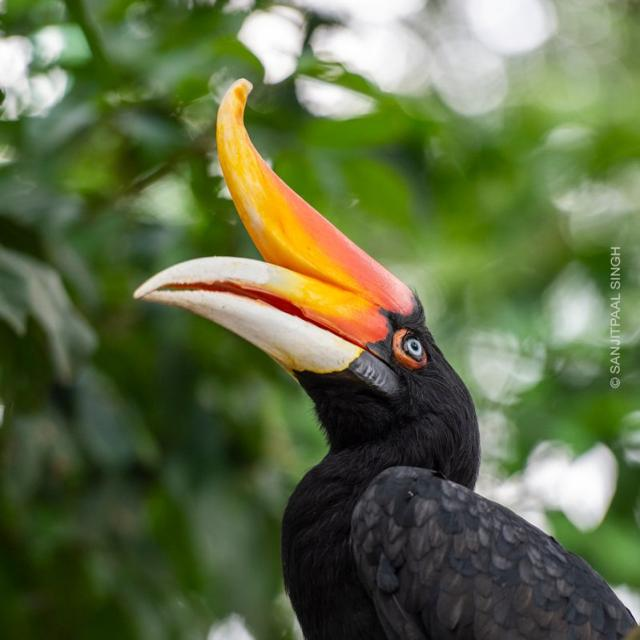Hornbill: (141, 77, 617, 638)
